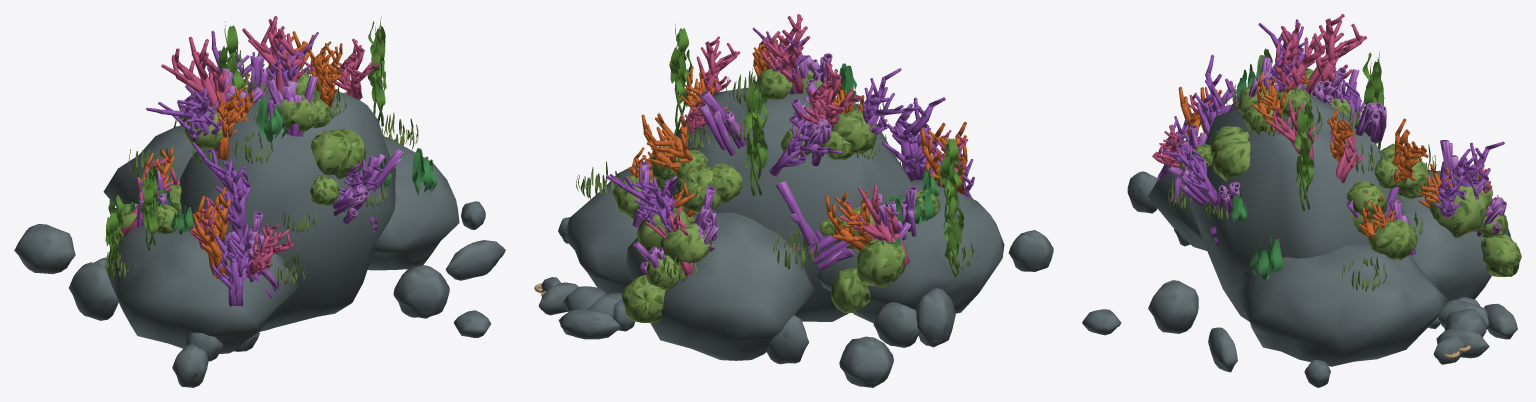
The model's file is garden.glb.
3 views of the same model, side by side, from view 1: azimuth 30°, elevation 25°; view 2: azimuth 150°, elevation 25°; view 3: azimuth 270°, elevation 25° (orthographic). The views are drawn at different scales.
Parts seen in each view (by area): view 1: garden_rock, garden_rock_low, garden_coral, garden_coral_low, garden_vegetation, garden_vegetation_low; view 2: garden_coral, garden_rock_low, garden_rock, garden_coral_low, garden_vegetation, garden_vegetation_low; view 3: garden_rock_low, garden_coral, garden_rock, garden_coral_low, garden_vegetation, garden_vegetation_low.
Part boxes in pixels (box(x1,y1,x2,y2)): garden_rock: box(14, 91, 505, 386); garden_rock_low: box(15, 89, 504, 387); garden_coral: box(115, 16, 403, 306); garden_coral_low: box(117, 16, 398, 306); garden_vegetation: box(105, 16, 436, 286); garden_vegetation_low: box(105, 23, 437, 286); garden_coral: box(534, 14, 974, 322); garden_rock_low: box(538, 87, 1053, 386); garden_rock: box(540, 89, 1053, 387); garden_coral_low: box(534, 14, 973, 322); garden_vegetation: box(576, 23, 976, 280); garden_vegetation_low: box(576, 28, 976, 281); garden_rock_low: box(1082, 95, 1517, 387); garden_coral: box(1152, 14, 1521, 358); garden_rock: box(1082, 101, 1517, 387); garden_coral_low: box(1152, 14, 1521, 358); garden_vegetation: box(1168, 48, 1498, 291); garden_vegetation_low: box(1168, 49, 1498, 291).
Bounding box in the file's own units: 11.48 × 8.31 × 11.17.
